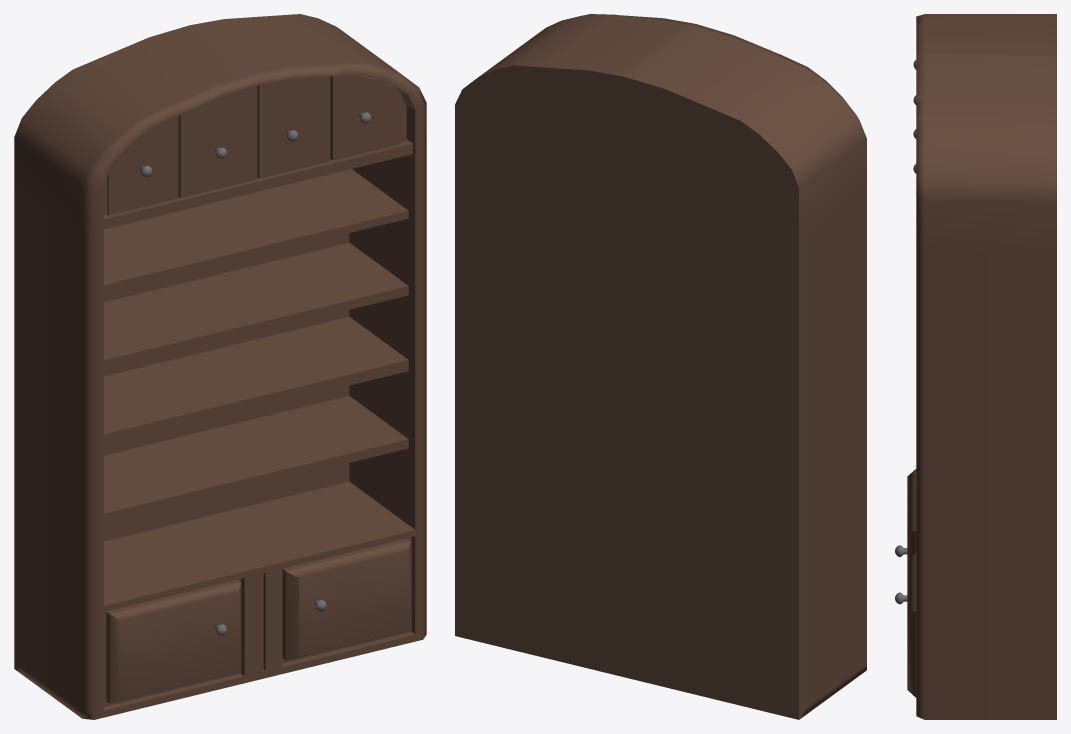
Rendered from biblip.fbx.
3 renders of one model, left to right at view 1: azimuth 30°, elevation 25°; view 2: azimuth 150°, elevation 25°; view 3: azimuth 270°, elevation 25°, orthographic. The views are drawn at different scales.
Parts seen in each view (by area): view 1: pCube1; view 2: pCube1; view 3: pCube1.
Part boxes in pixels (left/top/right/bottom): pCube1: left=14, top=14, right=426, bottom=719; pCube1: left=455, top=14, right=866, bottom=719; pCube1: left=907, top=14, right=1056, bottom=719.
Bounding box in the file's own units: 517 × 864 × 216.
